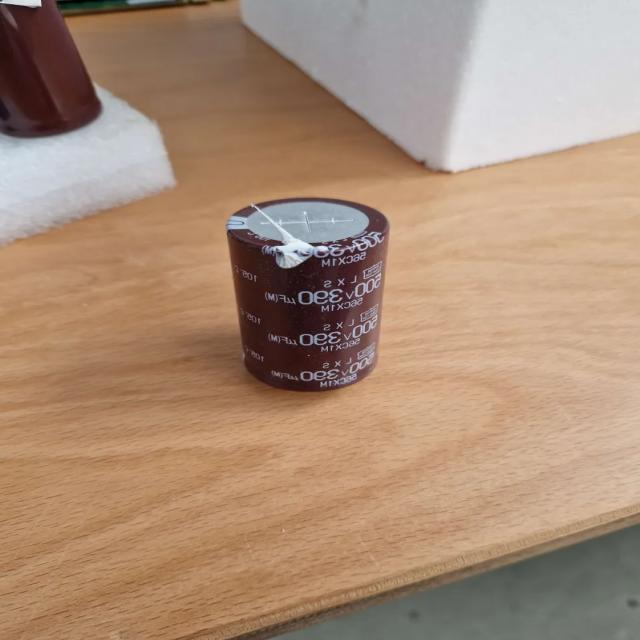C: (226, 199, 389, 391), (0, 0, 101, 137)
